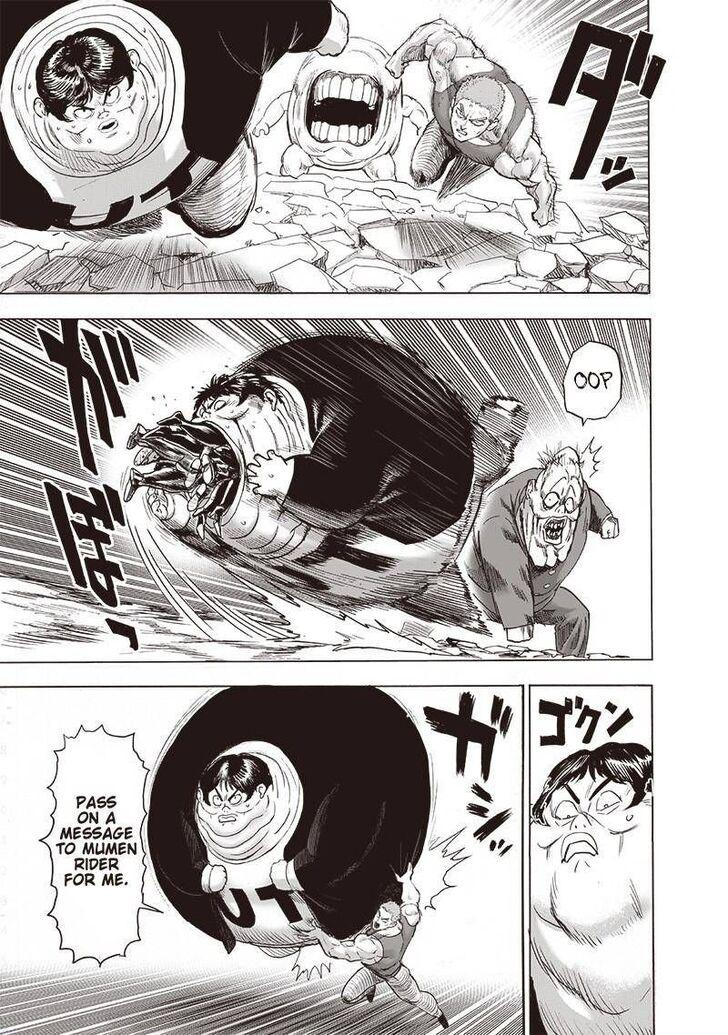Bubble: (39, 722, 153, 968), (561, 339, 625, 422)
